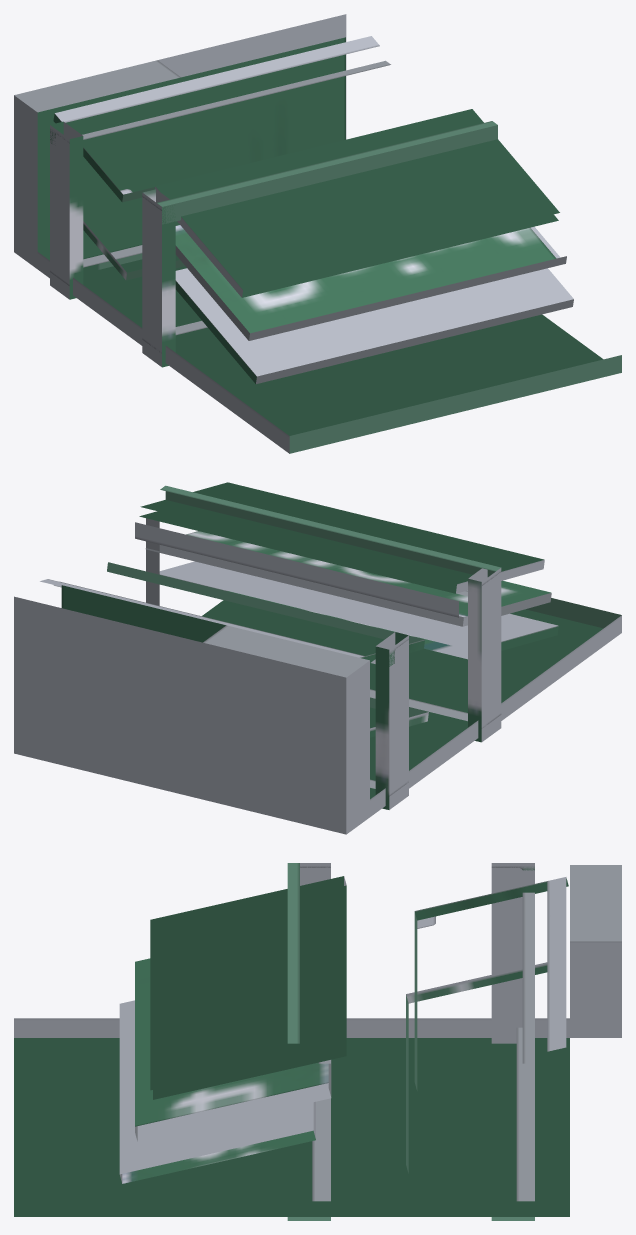
Rendered from section-1.obj.
The picture shows the model from 3 angles, top to bottom: view 1: azimuth 30°, elevation 25°; view 2: azimuth 150°, elevation 25°; view 3: azimuth 270°, elevation 25°; orthographic projection. The views are drawn at different scales.
Bounding box in the file's own units: 0.985 × 0.45 × 1.4.
